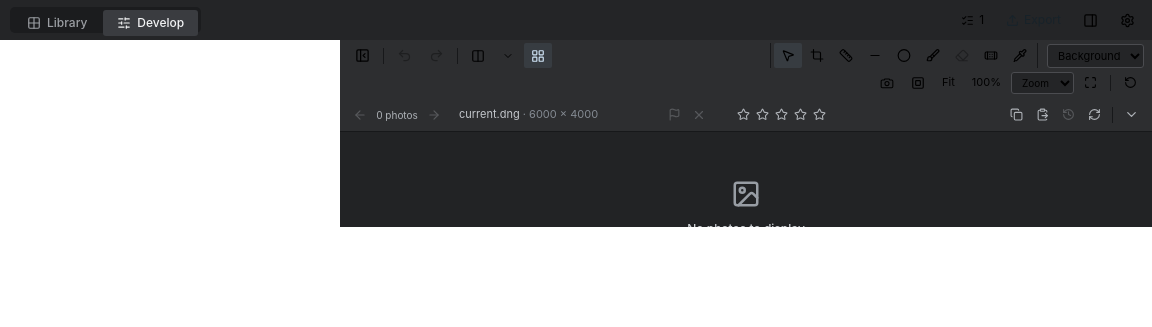
Test: opens the export queue from the top bar beside the work, counting what is not finished
The image size is (1152, 327).
Click the button named "Queue (1)" at (973, 20), box [954, 7, 991, 33]
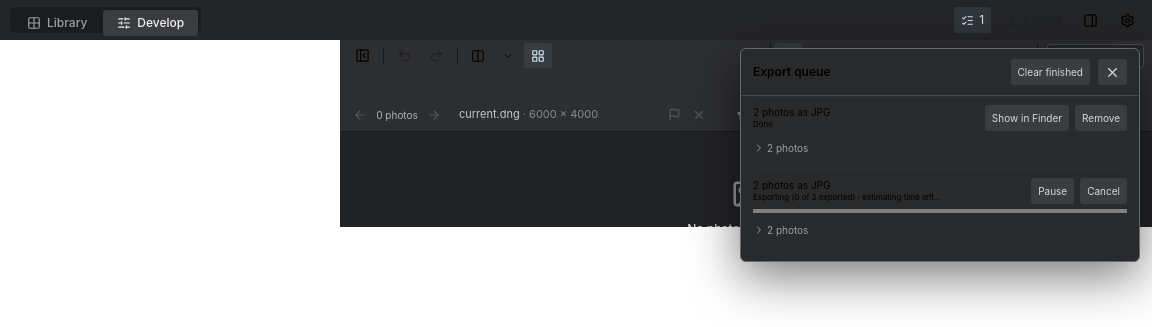
Click the button named "Close export queue" at (1112, 72), box [1098, 59, 1127, 85]
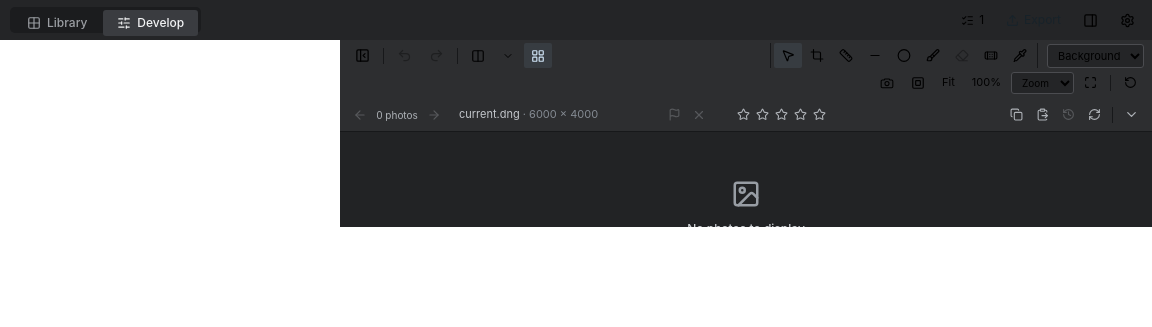
Expected: the text "Export queue" is gone
